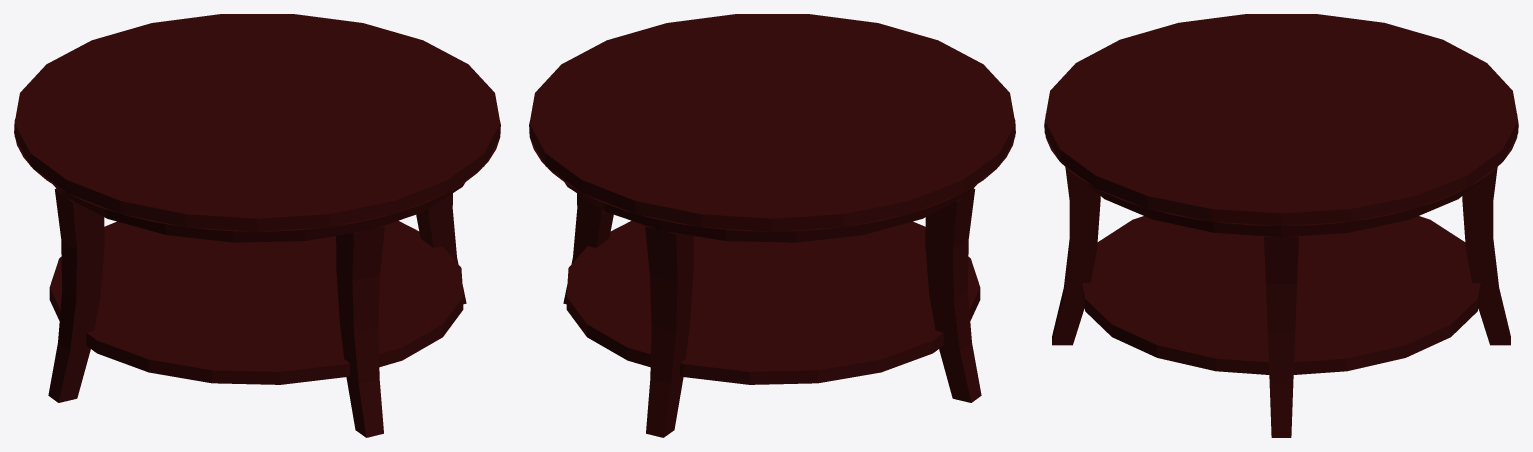
Rendered from table-by-cmht-oculus-dawBNnFWHja.glb.
3 views of the same model, side by side, from view 1: azimuth 30°, elevation 25°; view 2: azimuth 150°, elevation 25°; view 3: azimuth 270°, elevation 25° (orthographic). The views are drawn at different scales.
Parts seen in each view (by area): view 1: Node; view 2: Node; view 3: Node.
Part boxes in pixels (x1,y1,x2,y2): Node: [14, 14, 500, 437]; Node: [529, 14, 1015, 437]; Node: [1044, 14, 1518, 437].
Bounding box in the file's own units: 34 × 18 × 34.
